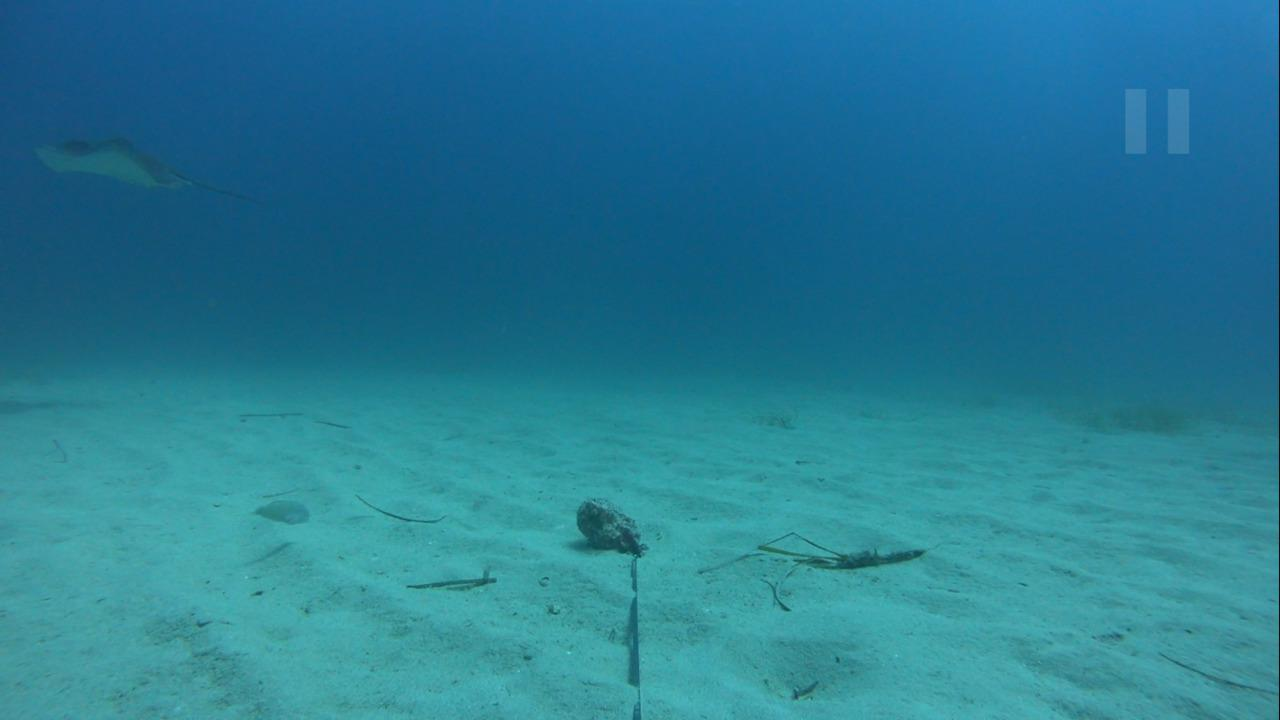myliobatis: (18, 131, 279, 219)
raor: (243, 494, 313, 524)
